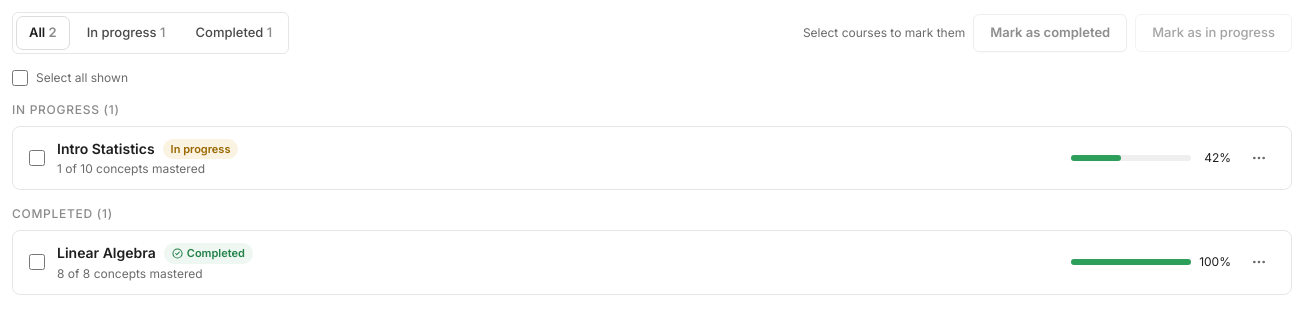
Test case: CoursesTable › groups courses by status and filters them
Expected: the heading "In progress (1)" is shown, [12,102,120,116]
Expected: the heading "Completed (1)" is shown, [12,206,113,221]
Click the button "Completed 1": (234, 33) [182,16,285,50]
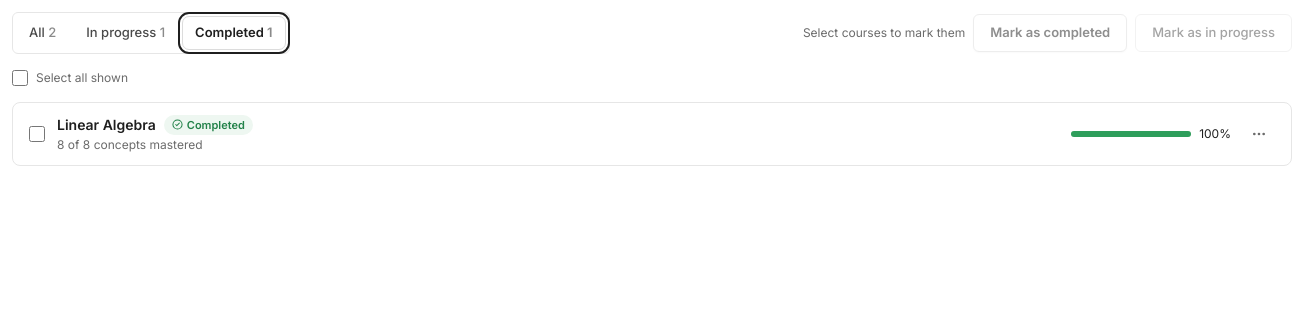
Expected: the link "Linear Algebra" is shown, [57,115,156,135]
Now the link "Intro Statistics" is gone
